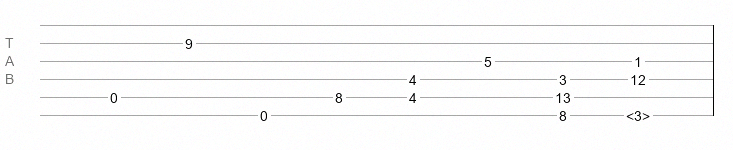0: (110, 90, 118, 100), (260, 108, 268, 118)
1: (634, 54, 642, 64)
12: (630, 72, 646, 82)
13: (555, 90, 571, 100)
3: (559, 72, 567, 82)
4: (409, 90, 417, 100), (409, 72, 417, 82)
5: (484, 54, 492, 64)
8: (335, 90, 343, 100), (559, 108, 567, 118)
9: (185, 36, 193, 46)
harmonic: (626, 108, 650, 118)
